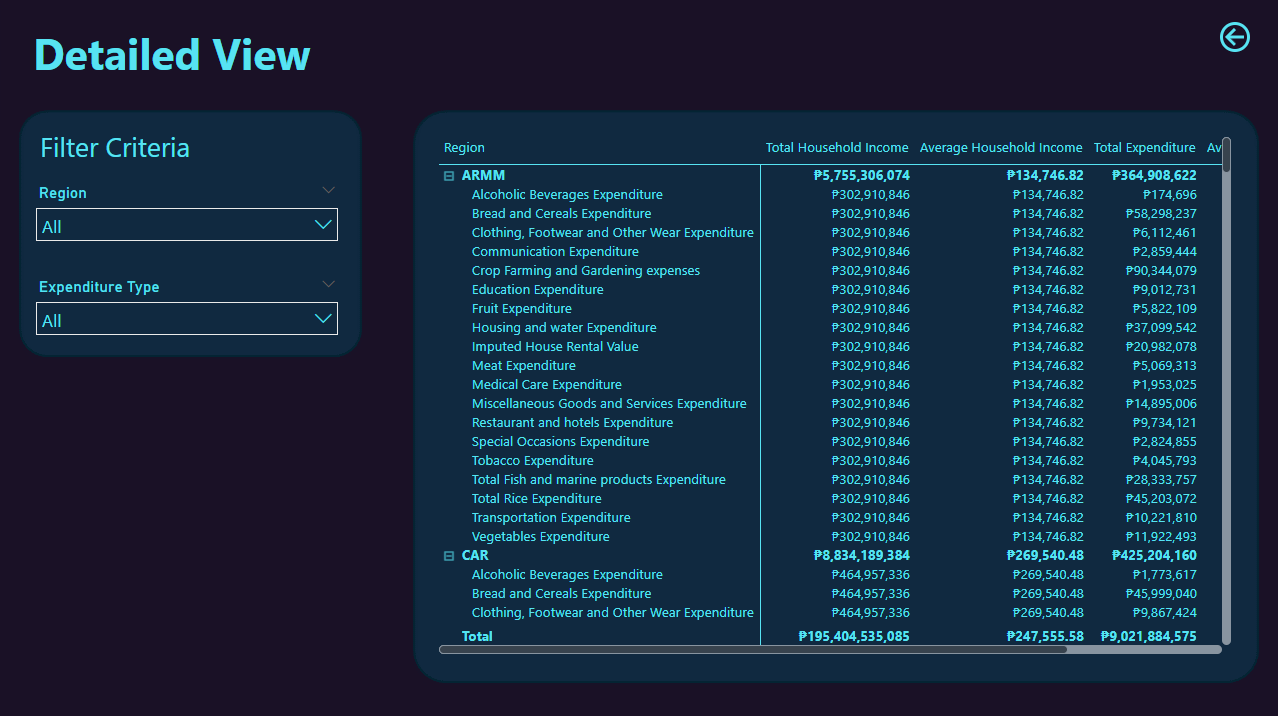

What the dashboard file says about the page in this screenshot:
{"tool":"powerbi","page":{"name":"Detail","canvas":[1280,720],"ordinal":1},"visuals":[{"type":"textbox","box":[29,21,343,76],"z":0},{"type":"textbox","box":[36,125,330,46],"z":1},{"type":"slicer","fields":{"Values":["Family Income and Expenditure.Region"]},"box":[27,180,322,71],"z":2},{"type":"slicer","fields":{"Values":["Family Income and Expenditure.Expenditure Type"]},"box":[27,274,322,72],"z":3},{"type":"pivotTable","fields":{"Values":["Family Income and Expenditure.Total Income","Family Income and Expenditure.Average Household Income","Family Income and Expenditure.Total Expenditure","Family Income and Expenditure.Average Expenditure"],"Rows":["Family Income and Expenditure.Region","Family Income and Expenditure.Expenditure Type"]},"box":[435,134,802,527],"z":4},{"type":"actionButton","box":[1216,19,41,40],"z":5}]}

Visuals, with their boxes in screenshot pixels (x1, y1, x2, y2), scaled from the page's 1280x720 canvas onto the 1278x717 screenshot:
textbox: {"left": 29, "top": 21, "right": 371, "bottom": 97}
textbox: {"left": 36, "top": 124, "right": 365, "bottom": 170}
slicer - Family Income and Expenditure.Region: {"left": 27, "top": 179, "right": 348, "bottom": 250}
slicer - Family Income and Expenditure.Expenditure Type: {"left": 27, "top": 273, "right": 348, "bottom": 345}
pivotTable - Family Income and Expenditure.Total Income x Family Income and Expenditure.Average Household Income: {"left": 434, "top": 133, "right": 1235, "bottom": 658}
actionButton: {"left": 1214, "top": 19, "right": 1255, "bottom": 59}
